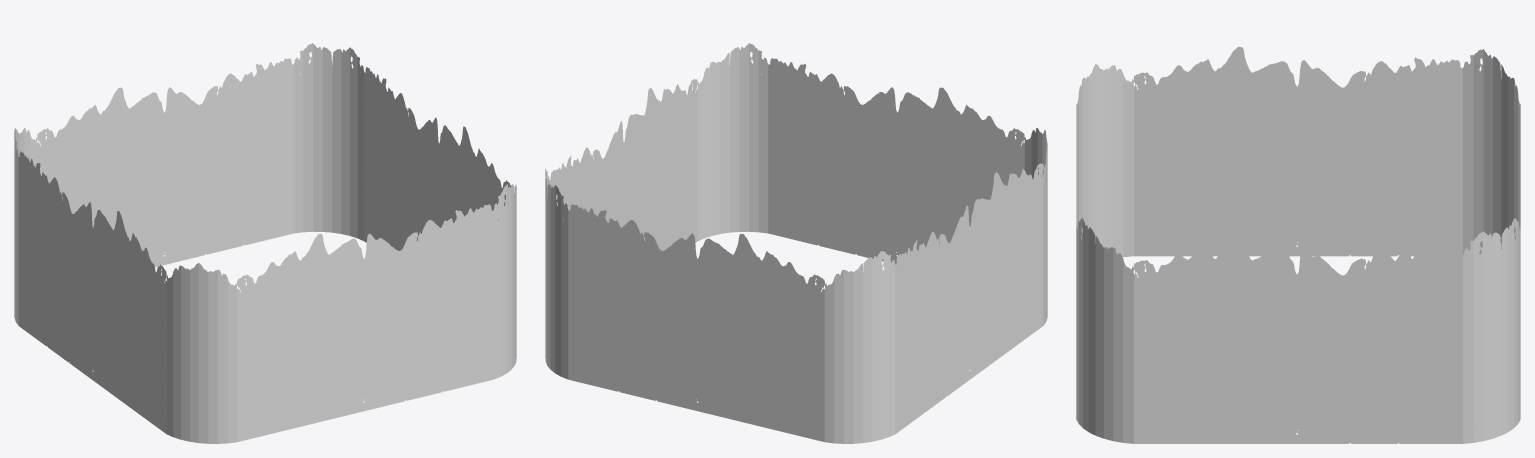
The model's file is FXMesh.fbx.
3 renders of one model, left to right at view 1: azimuth 30°, elevation 25°; view 2: azimuth 150°, elevation 25°; view 3: azimuth 270°, elevation 25°, orthographic. The views are drawn at different scales.
Parts seen in each view (by area): view 1: BaseStationFXMesh; view 2: BaseStationFXMesh; view 3: BaseStationFXMesh.
Boxes of the visible parts, x1=… form: BaseStationFXMesh: x1=14, y1=43, x2=516, y2=443; BaseStationFXMesh: x1=545, y1=43, x2=1047, y2=443; BaseStationFXMesh: x1=1076, y1=46, x2=1520, y2=443.
Size of the model in its own units: 179 by 108 by 179.
